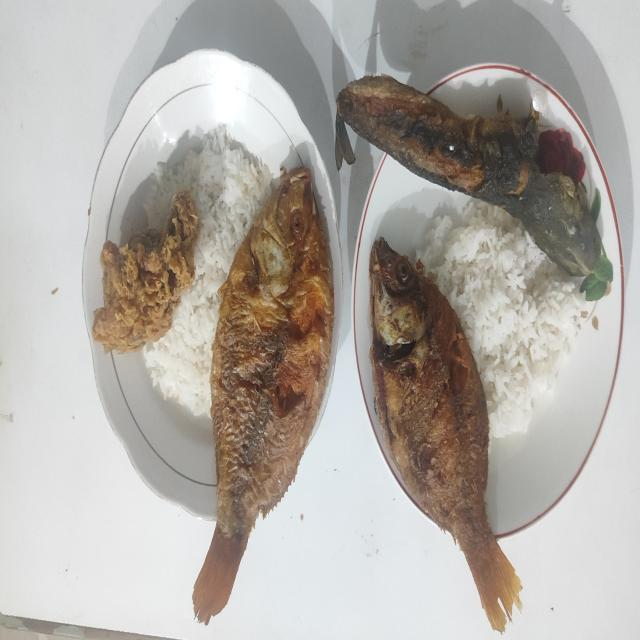ikan_mujair: (192, 167, 334, 624), (369, 238, 522, 632)
nasi_putih: (414, 196, 589, 439), (144, 126, 272, 417)
